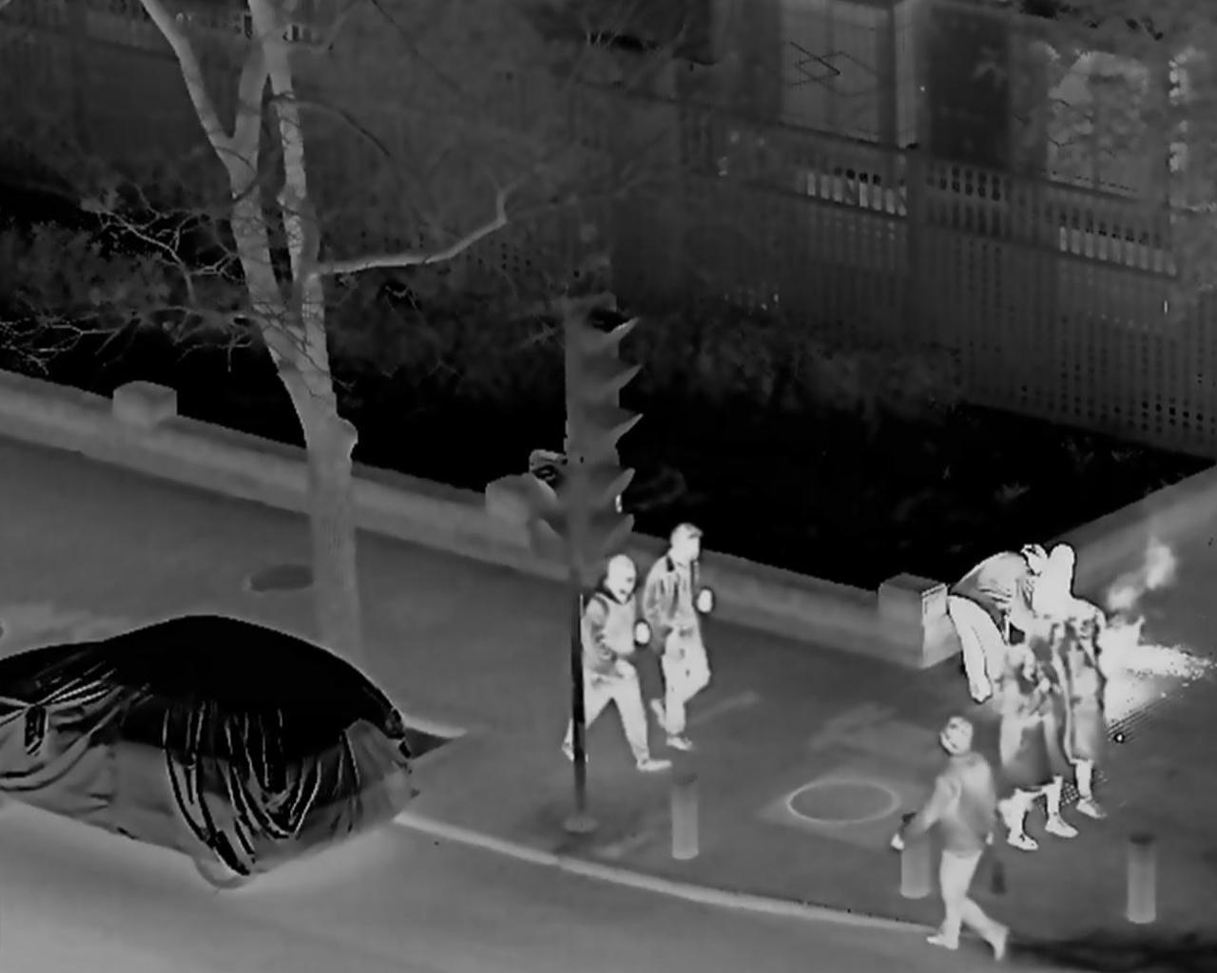person: (894, 714, 1016, 962), (562, 552, 673, 782), (642, 523, 727, 755), (946, 543, 1045, 703), (1034, 624, 1113, 823), (1004, 639, 1081, 831), (990, 643, 1052, 854), (1020, 541, 1115, 655)
